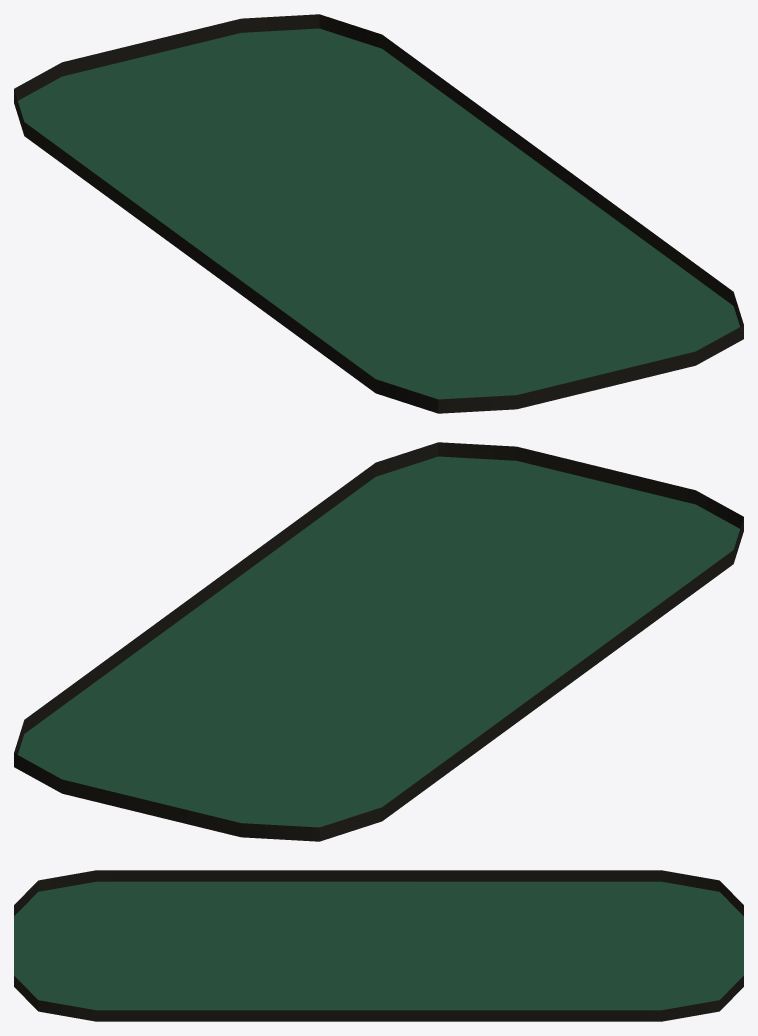
Rendered from SM_Puddle_Var1.fbx.
3 views of the same model, one above another, from view 1: azimuth 30°, elevation 25°; view 2: azimuth 150°, elevation 25°; view 3: azimuth 270°, elevation 25° (orthographic). The views are drawn at different scales.
Visible parts, largest first — view 1: SM_Puddle_Var1; view 2: SM_Puddle_Var1; view 3: SM_Puddle_Var1.
Part boxes in pixels (x1,y1,x2,y2): SM_Puddle_Var1: [14, 14, 743, 413]; SM_Puddle_Var1: [14, 442, 743, 841]; SM_Puddle_Var1: [14, 870, 743, 1021].
Bounding box in the file's own units: 50 × 1.9 × 110.
